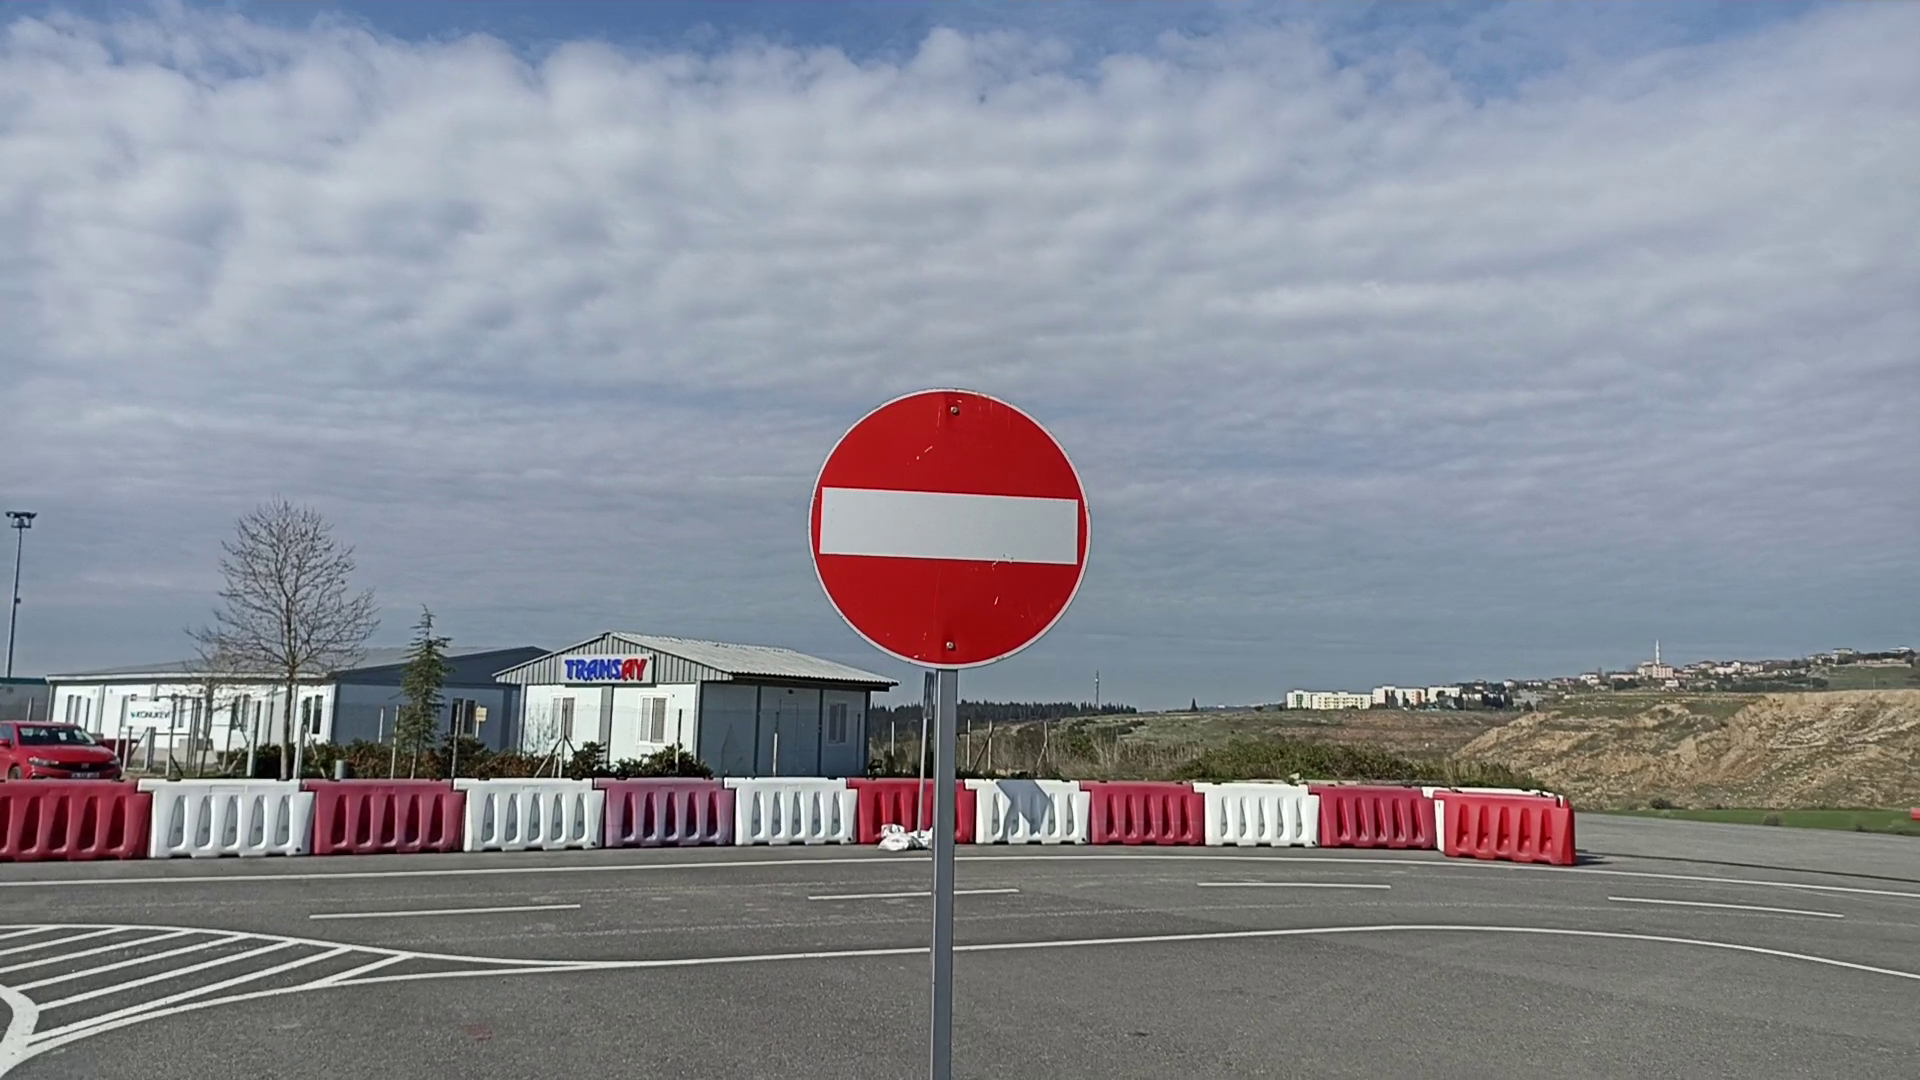noentryway: (804, 385, 1096, 671)
